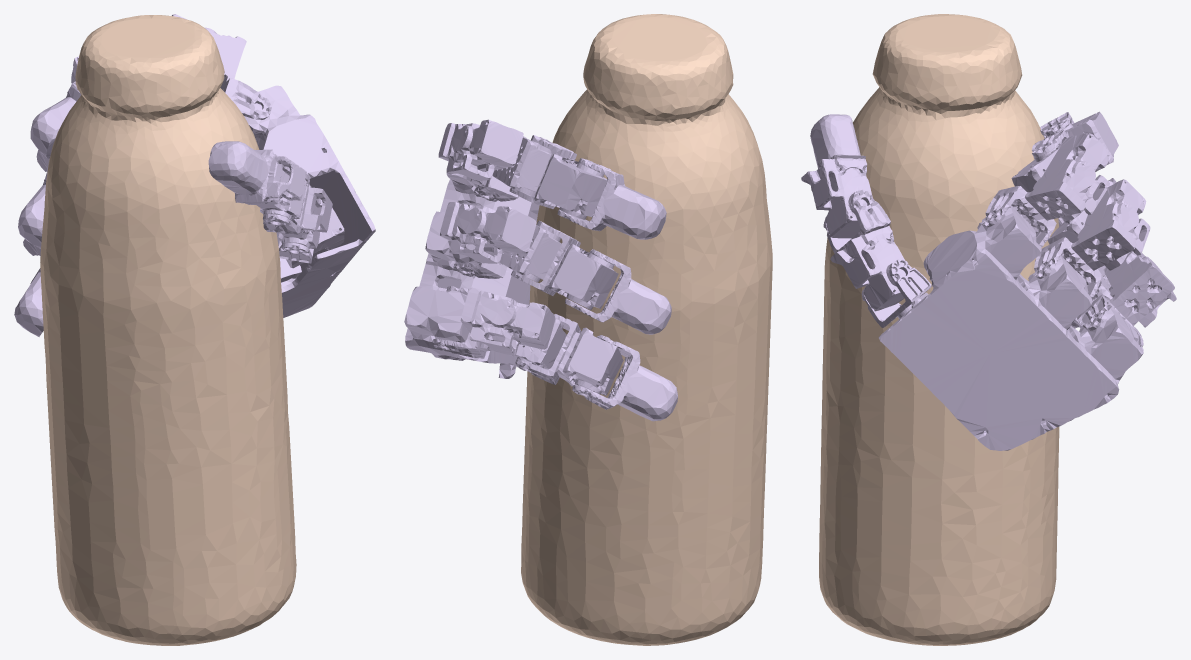
File: 6aed4df77ee9f6-closed.glb
The picture shows the model from 3 angles, left to right: view 1: azimuth 30°, elevation 25°; view 2: azimuth 150°, elevation 25°; view 3: azimuth 270°, elevation 25°; orthographic projection.
Visible parts, largest first — view 1: world, LEAP_hand; view 2: world, LEAP_hand; view 3: world, LEAP_hand.
Part boxes in pixels (x1,y1,x2,y2): world: [40, 15, 296, 645]; LEAP_hand: [14, 14, 375, 336]; world: [521, 14, 772, 645]; LEAP_hand: [404, 119, 677, 421]; world: [819, 14, 1059, 645]; LEAP_hand: [801, 111, 1176, 450].
Bounding box in the file's own units: 0.1888 × 0.3615 × 0.2156.
